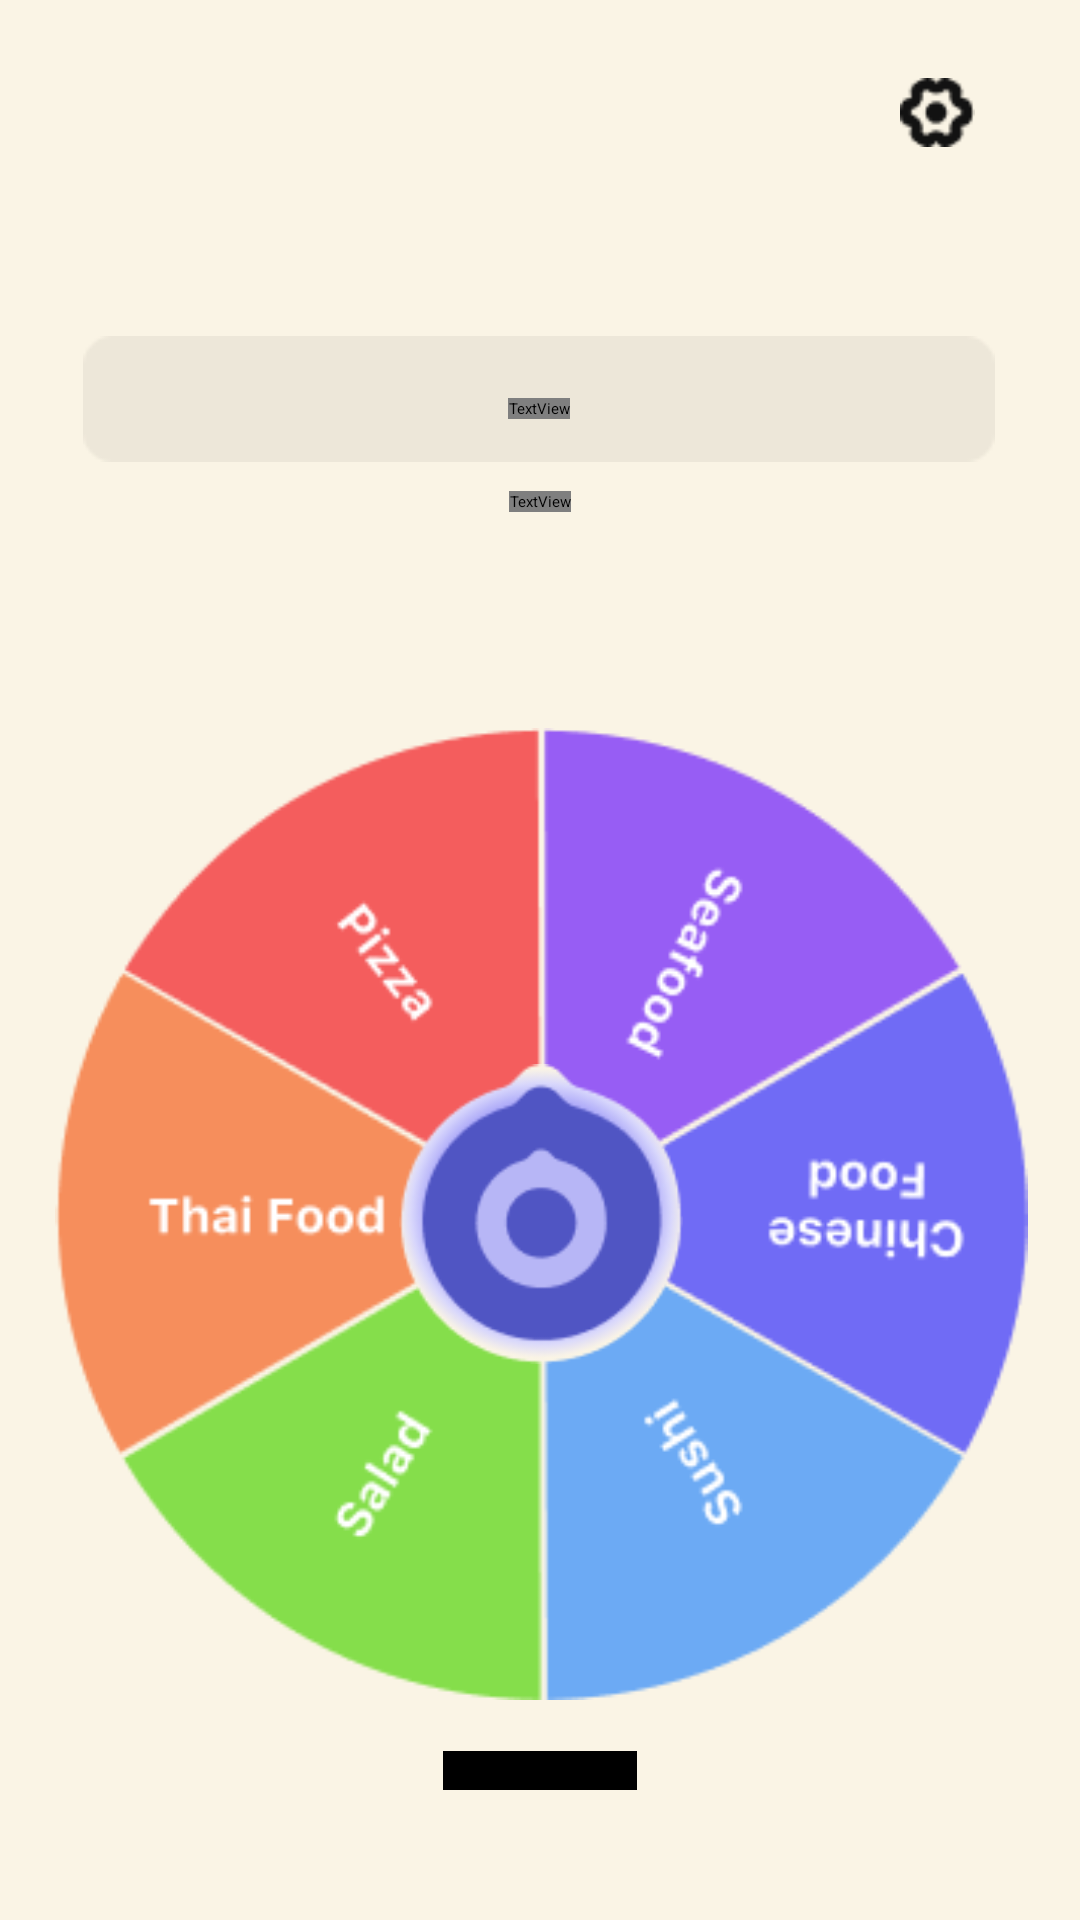

Icon click points for this 1080px×1920px phone screenshot, format [x,y]:
settings: [937,112]
spin pointer: [541,1214]
